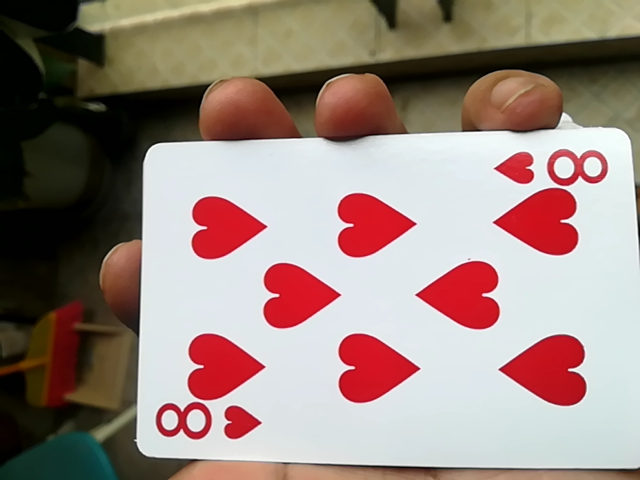hx 8: (128, 127, 626, 479)
